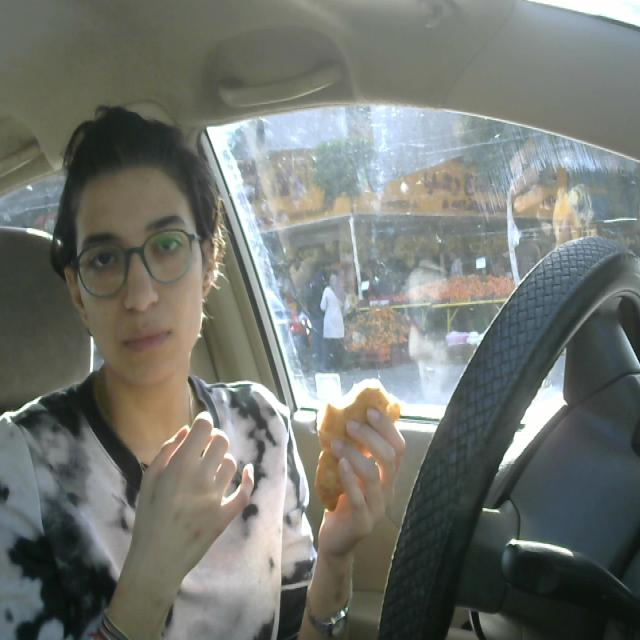eating: (316, 377, 399, 530)
